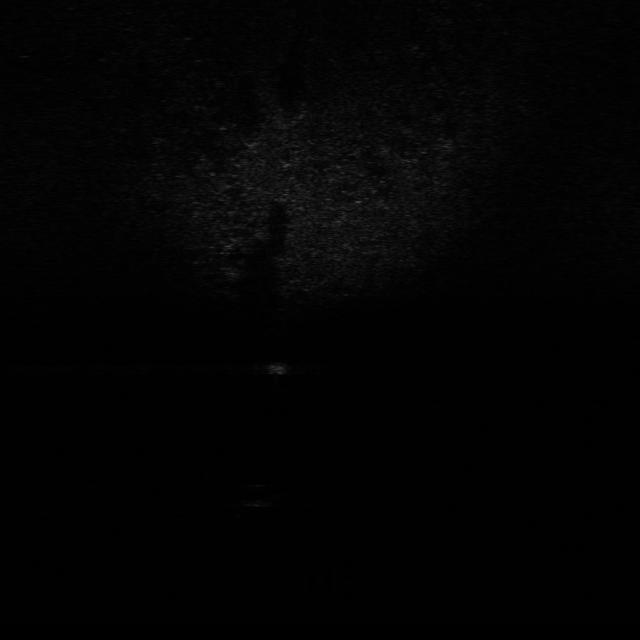ball: (240, 482, 278, 512)
cube: (264, 355, 302, 379)
